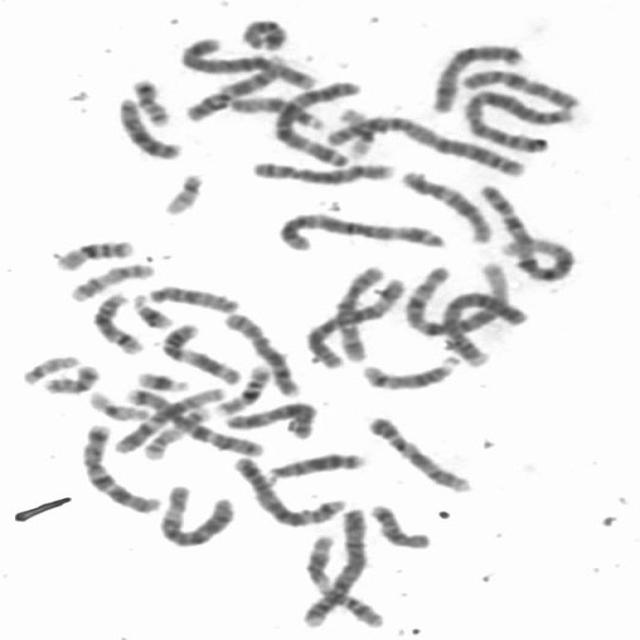A1: (474, 180, 576, 282), (402, 260, 514, 338)
A2: (324, 109, 526, 179), (458, 84, 580, 153)
A3: (268, 78, 363, 168), (271, 209, 446, 254)
B4: (297, 504, 369, 628), (441, 288, 529, 369)
B5: (229, 453, 348, 528), (176, 38, 319, 91)
C10: (324, 263, 388, 365), (457, 66, 581, 111)
C11: (304, 536, 386, 632), (158, 321, 243, 386)
C12: (112, 384, 228, 456), (397, 168, 492, 244)
C6: (302, 276, 411, 371), (154, 481, 237, 549)
C7: (122, 386, 265, 456), (77, 421, 162, 514)
C8: (221, 310, 301, 398), (246, 158, 397, 185)
C9: (364, 413, 473, 494), (185, 50, 292, 124)
D13: (113, 94, 183, 161), (262, 449, 365, 481)
D14: (358, 352, 462, 391), (88, 291, 145, 355)
D15: (225, 93, 328, 131), (143, 283, 240, 315)
E16: (212, 361, 272, 417), (52, 237, 137, 273)
E17: (140, 405, 212, 461), (64, 260, 155, 304)
E18: (367, 500, 432, 550), (240, 17, 288, 54)
F19: (336, 104, 378, 160), (85, 388, 152, 422)
F20: (128, 76, 172, 126), (39, 362, 102, 396)
G21: (130, 292, 174, 330), (135, 369, 190, 393)
G22: (160, 170, 207, 217), (18, 352, 80, 387)
X: (427, 40, 524, 114), (219, 398, 319, 440)
